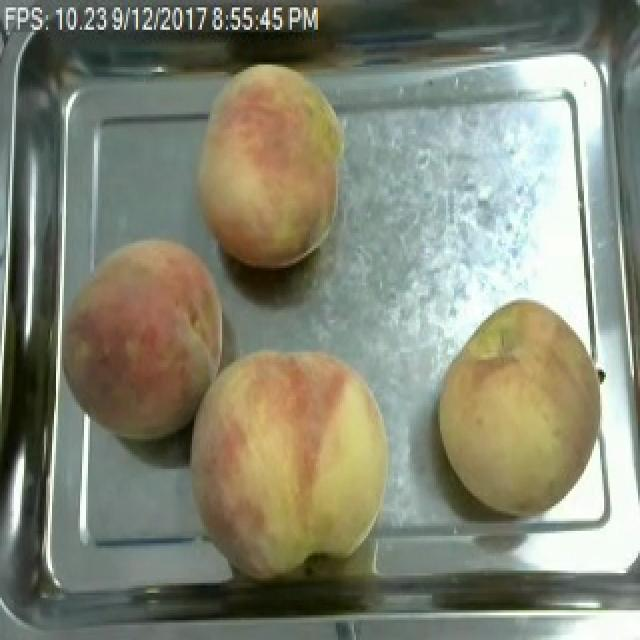Fruit: (178, 338, 402, 586), (428, 293, 612, 526), (50, 228, 234, 449), (186, 54, 354, 276)
